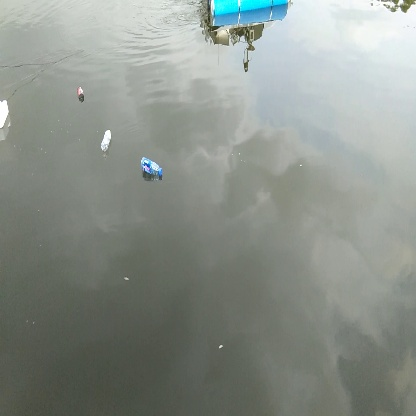bottle: (138, 154, 168, 182), (95, 123, 118, 156)
